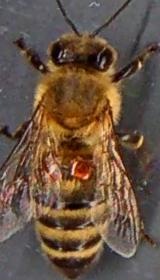varroa_mite: (70, 158, 93, 178)
